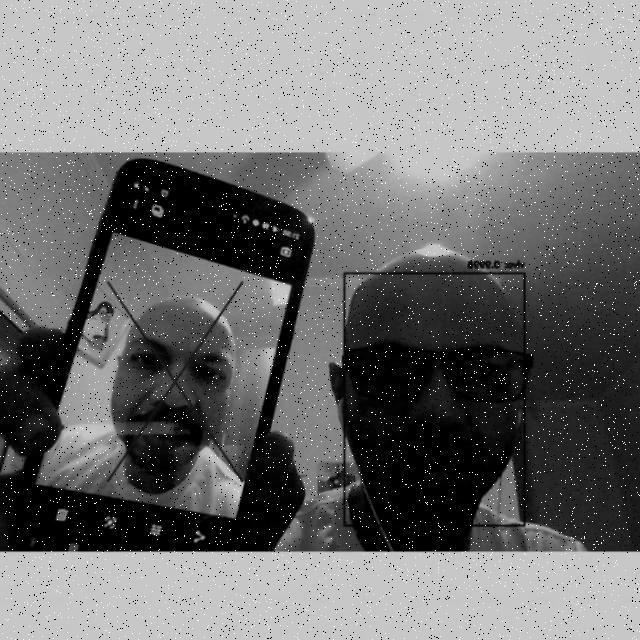fake: (0, 171, 312, 550)
real: (355, 284, 519, 509)
